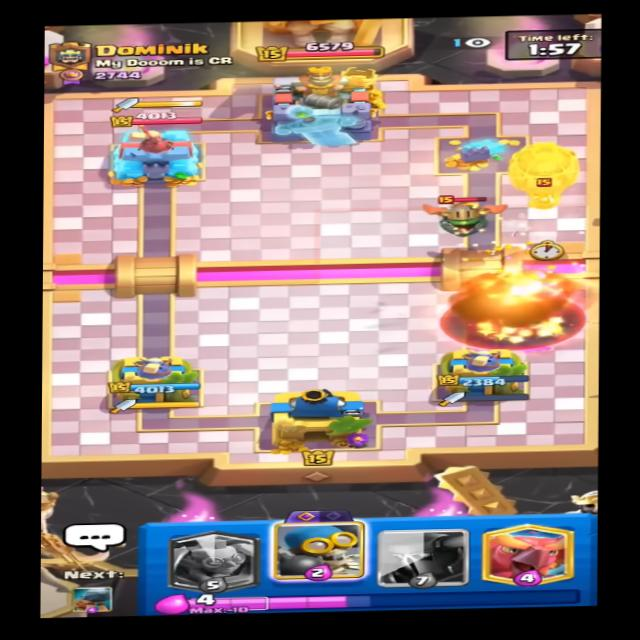balloon: (501, 137, 585, 226)
inferno-dragon: (419, 190, 504, 240)
